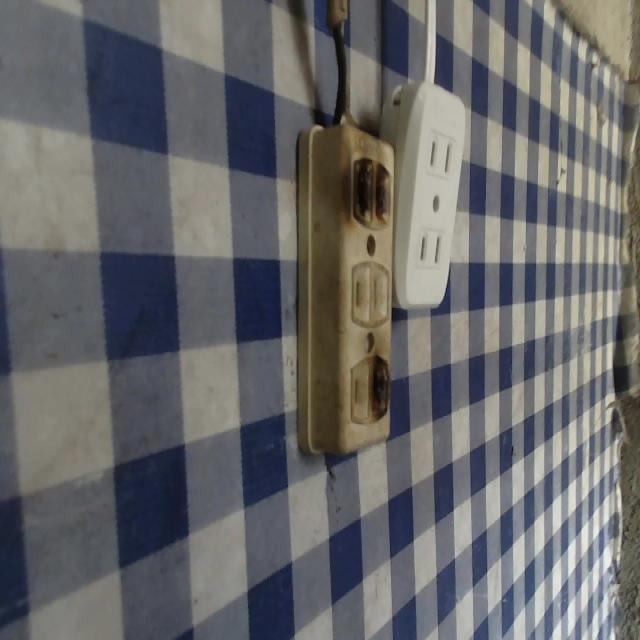-: (346, 153, 394, 228), (369, 353, 391, 420)
